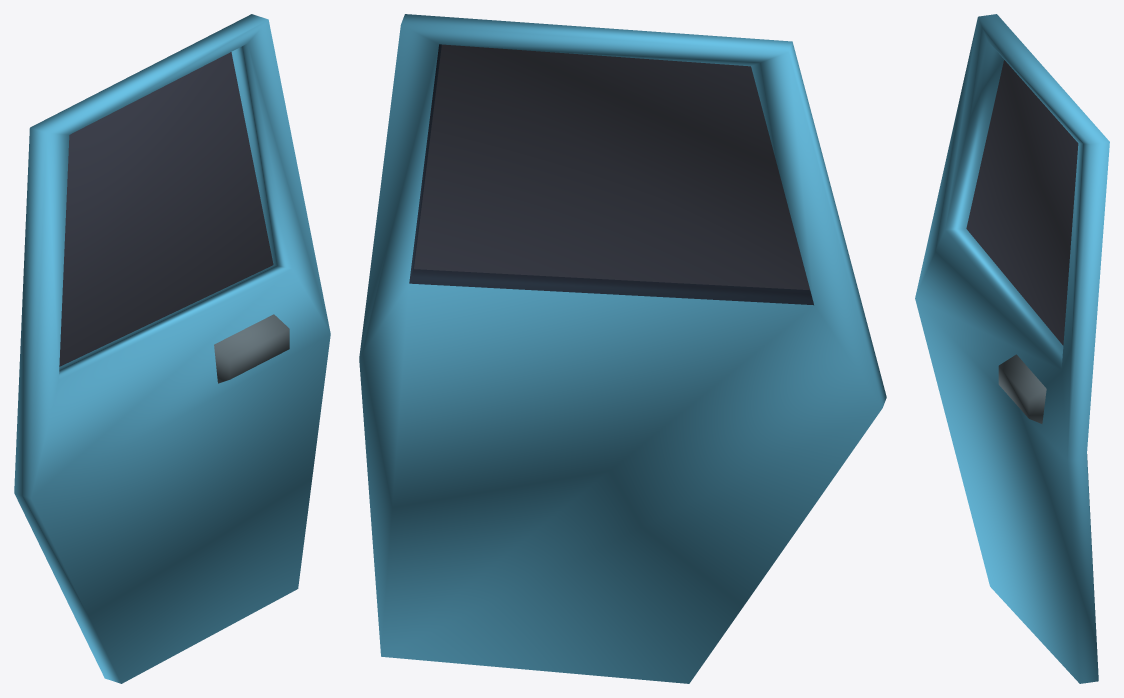
File: truck_wood(open_door).fbx
3 views of the same model, side by side, from view 1: azimuth 30°, elevation 25°; view 2: azimuth 150°, elevation 25°; view 3: azimuth 270°, elevation 25° (orthographic). The views are drawn at different scales.
Parts seen in each view (by area): view 1: Truck_Door.left.001; view 2: Truck_Door.left.001; view 3: Truck_Door.left.001.
Part boxes in pixels (box(x1,y1,x2,y2)): Truck_Door.left.001: box(14, 14, 330, 683); Truck_Door.left.001: box(359, 14, 886, 683); Truck_Door.left.001: box(915, 14, 1109, 683).
Size of the model in its own units: 168 by 238 by 78.92.
